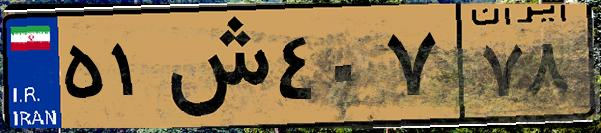0: (330, 28, 385, 110)
1: (110, 28, 158, 98)
4: (270, 28, 330, 110)
5: (57, 26, 110, 100)
7: (385, 28, 445, 110), (475, 38, 525, 113)
8: (525, 38, 570, 115)
ش: (158, 12, 270, 120)
